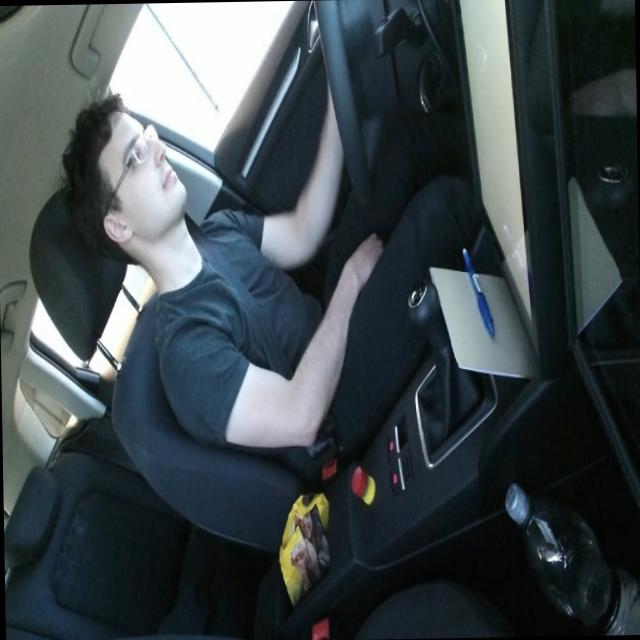pen: (460, 243, 494, 338)
